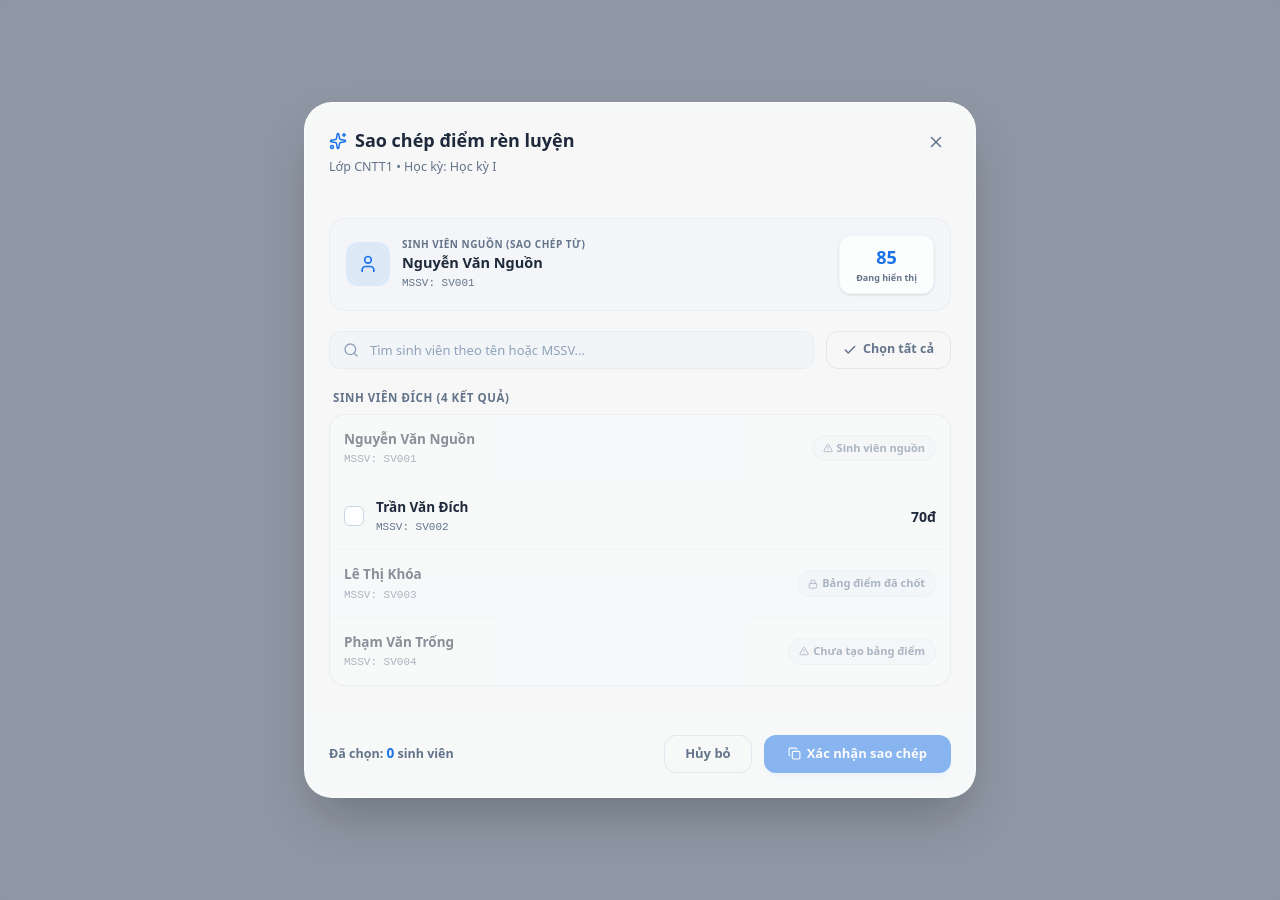
CopyScoreModal Component › supports toggle select and select all visible
Chỉ có Trần Văn Đích (SV002) chọn được, chọn SV002
What coordinates should you click on to do the following:
click the text "Trần Văn Đích"
I would click on:
 (422, 507)
Its box is [376,496,468,517].
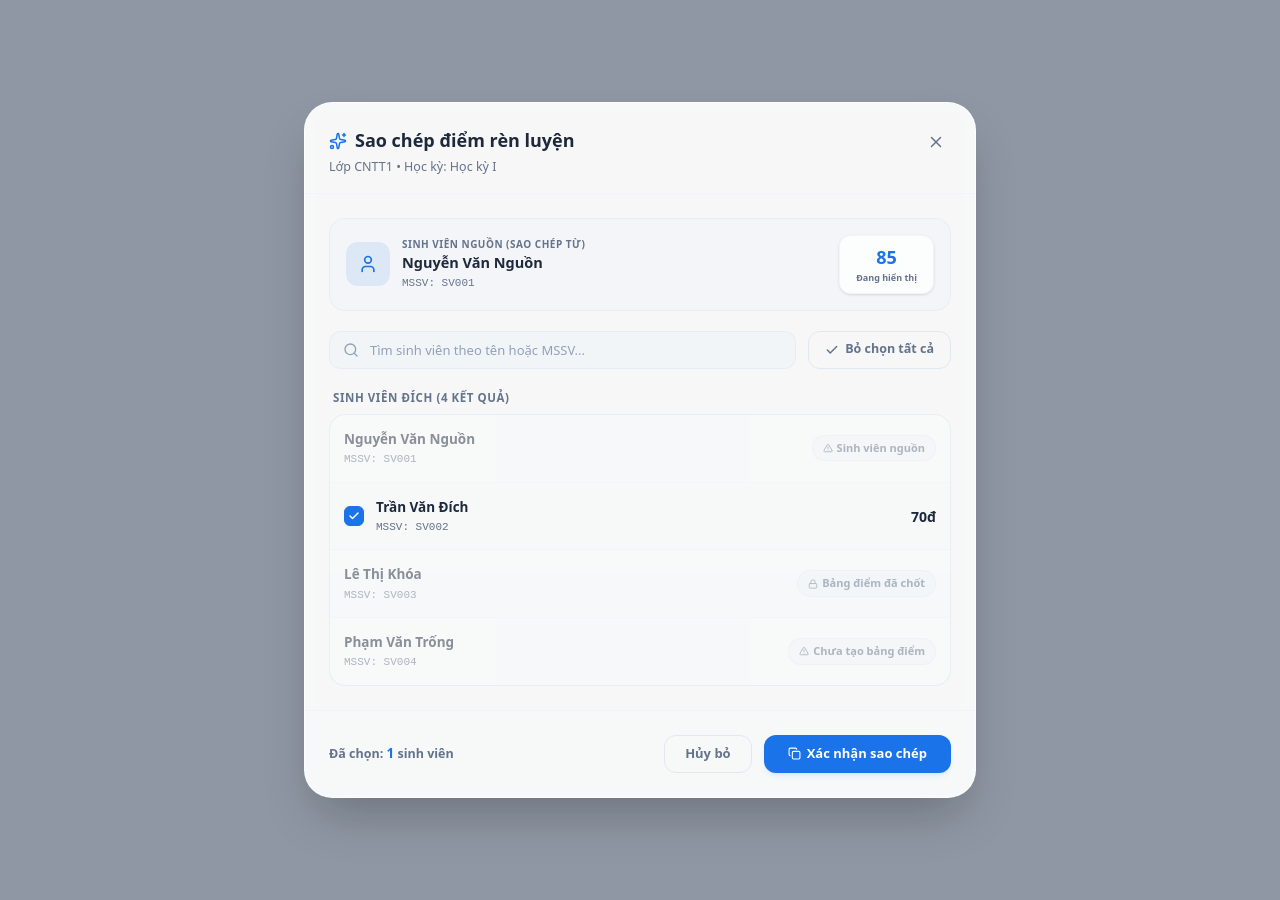
expect the text "Đã chọn: 1 sinh viên" is shown: met, box [329,743,454,764]
expect the text "1" is shown: met, box [386,744,394,762]
Thử nút Chọn tất cả (lúc này chữ là "Bỏ chọn tất cả" do visible target đã được chọn hết)
What coordinates should you click on to do the following:
click the button "Bỏ chọn tất cả"
I would click on:
 (880, 350)
Its box is [808,330,951,368].
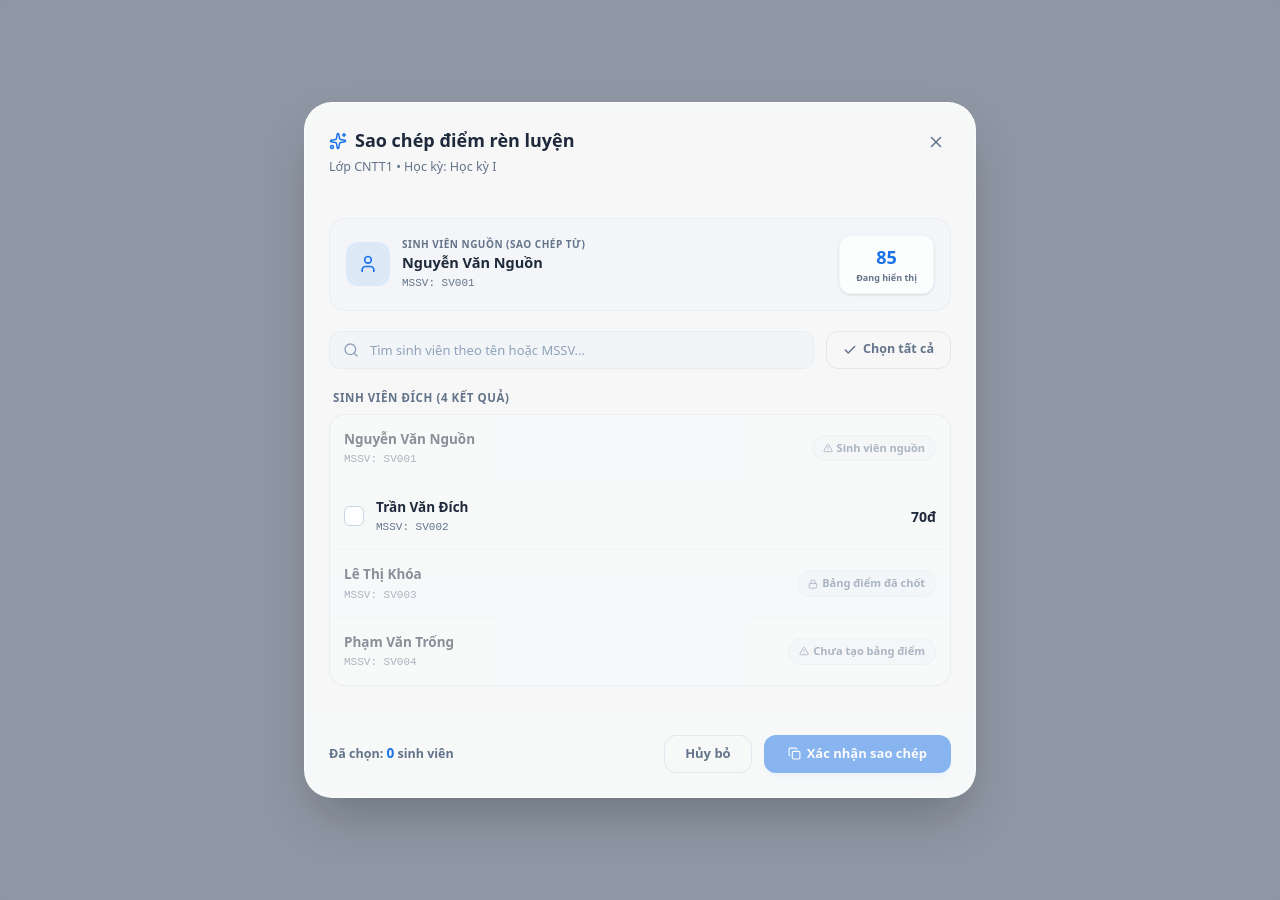
expect the text "0" is shown: met, box [386,744,394,762]
